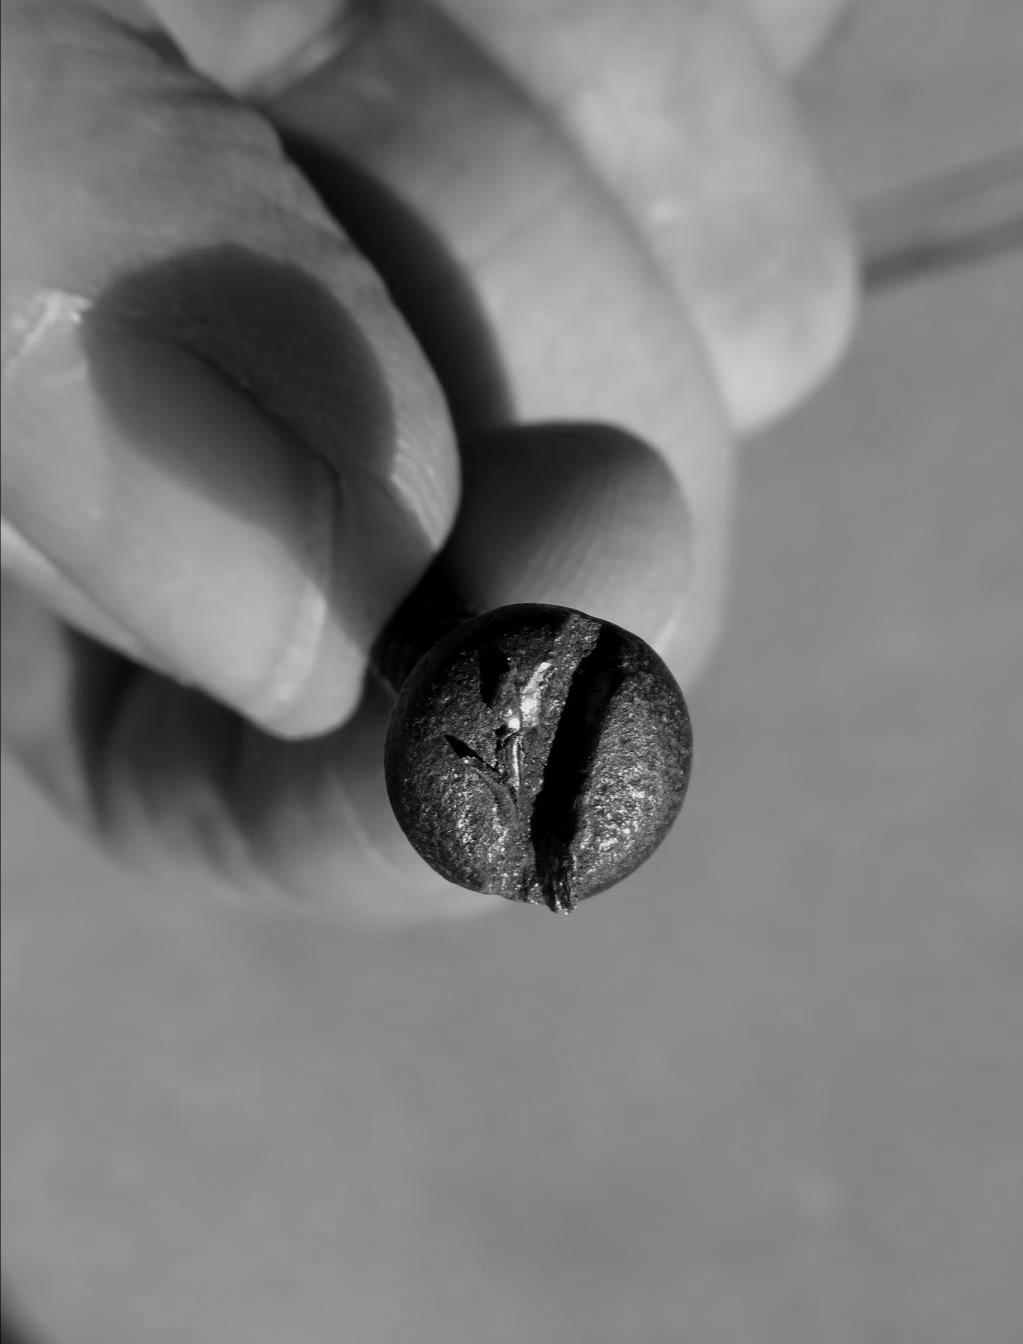slotted: (394, 596, 707, 930)
